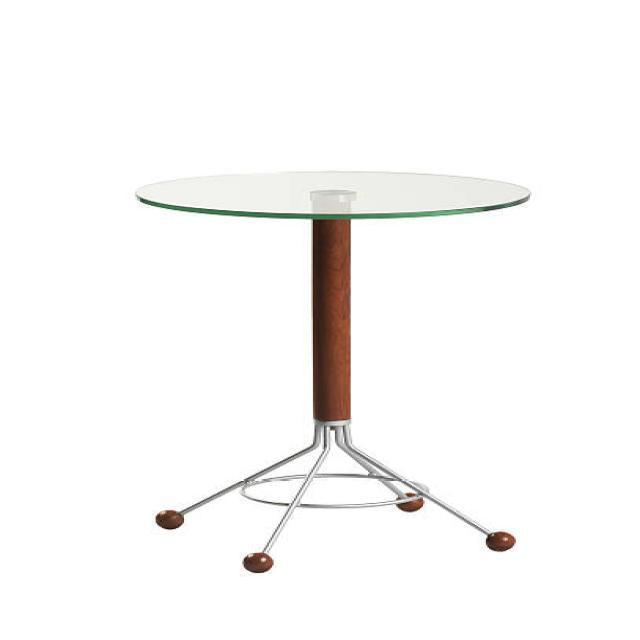table: (134, 169, 532, 573)
